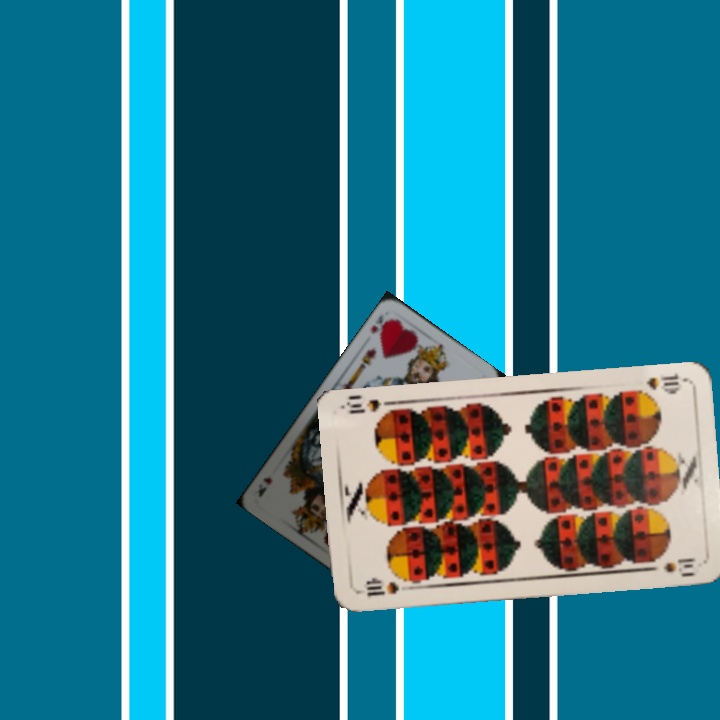HK: (367, 310, 394, 338)
S10: (362, 575, 413, 599), (643, 369, 682, 395)
